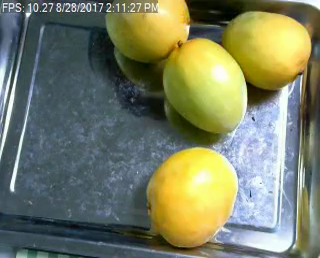Mango: (145, 146, 237, 246), (163, 38, 245, 131), (222, 10, 311, 89), (104, 0, 191, 61)
